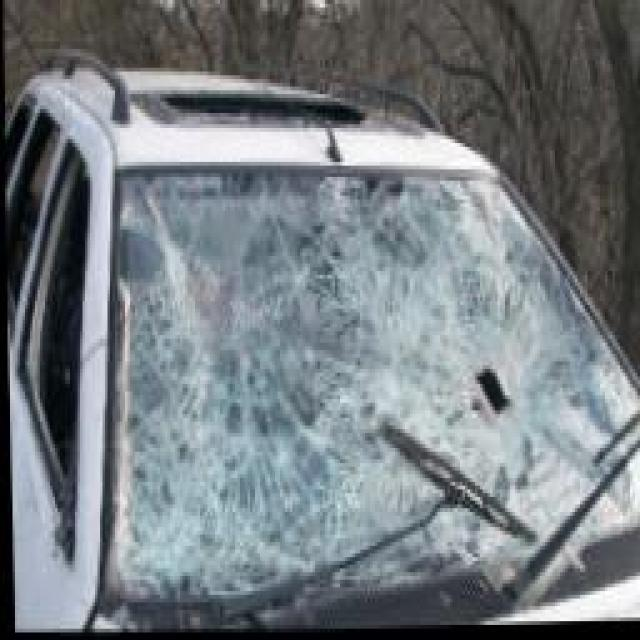Windshield: (112, 176, 640, 596)
